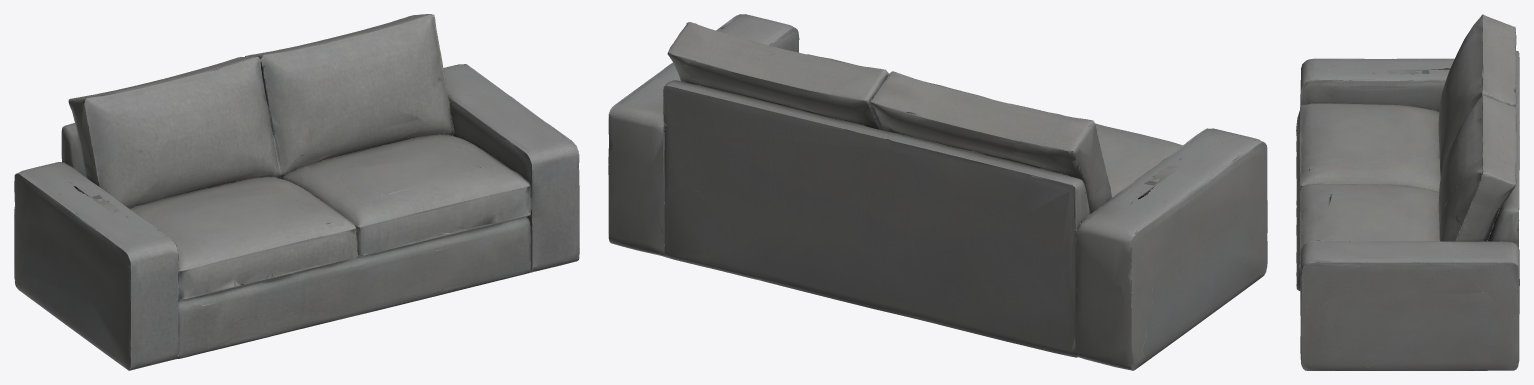
Rendered from ikea-kivik-sofa-tibbleby-beige-gray-39440593.glb.
3 views of the same model, side by side, from view 1: azimuth 30°, elevation 25°; view 2: azimuth 150°, elevation 25°; view 3: azimuth 270°, elevation 25° (orthographic). The views are drawn at different scales.
Parts seen in each view (by area): view 1: model; view 2: model; view 3: model.
Boxes of the visible parts, x1,y1,x2,y2 form: model: (14, 14, 579, 370); model: (608, 14, 1267, 370); model: (1296, 14, 1519, 370).
Bounding box in the file's own units: 1.77 × 0.7127 × 0.8129.
1 material, 1 textured.
